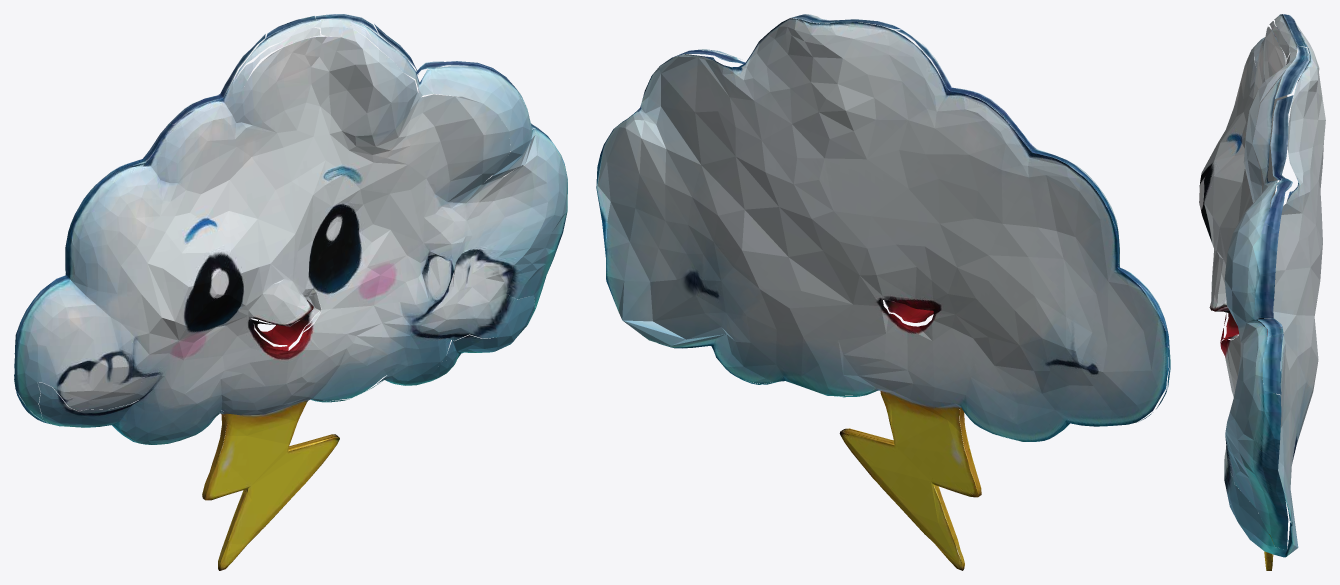
File: char-Nimbus.glb
3 views of the same model, side by side, from view 1: azimuth 30°, elevation 25°; view 2: azimuth 150°, elevation 25°; view 3: azimuth 270°, elevation 25° (orthographic). The views are drawn at different scales.
Parts seen in each view (by area): view 1: geometry_0.015; view 2: geometry_0.015; view 3: geometry_0.015.
Boxes of the visible parts, x1,y1,x2,y2 form: geometry_0.015: (14, 14, 567, 570); geometry_0.015: (596, 14, 1170, 570); geometry_0.015: (1199, 14, 1325, 570).
Bounding box in the file's own units: 1.06 × 0.9512 × 0.1854.
Materials: 1 (1 with a texture image).
